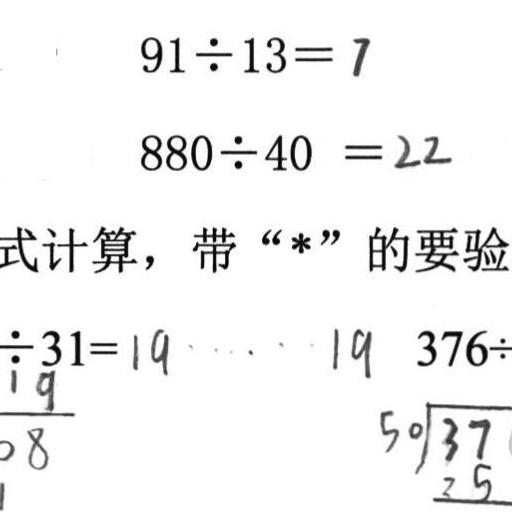ans: (128, 321, 373, 381), (389, 126, 450, 170), (344, 30, 372, 77)
